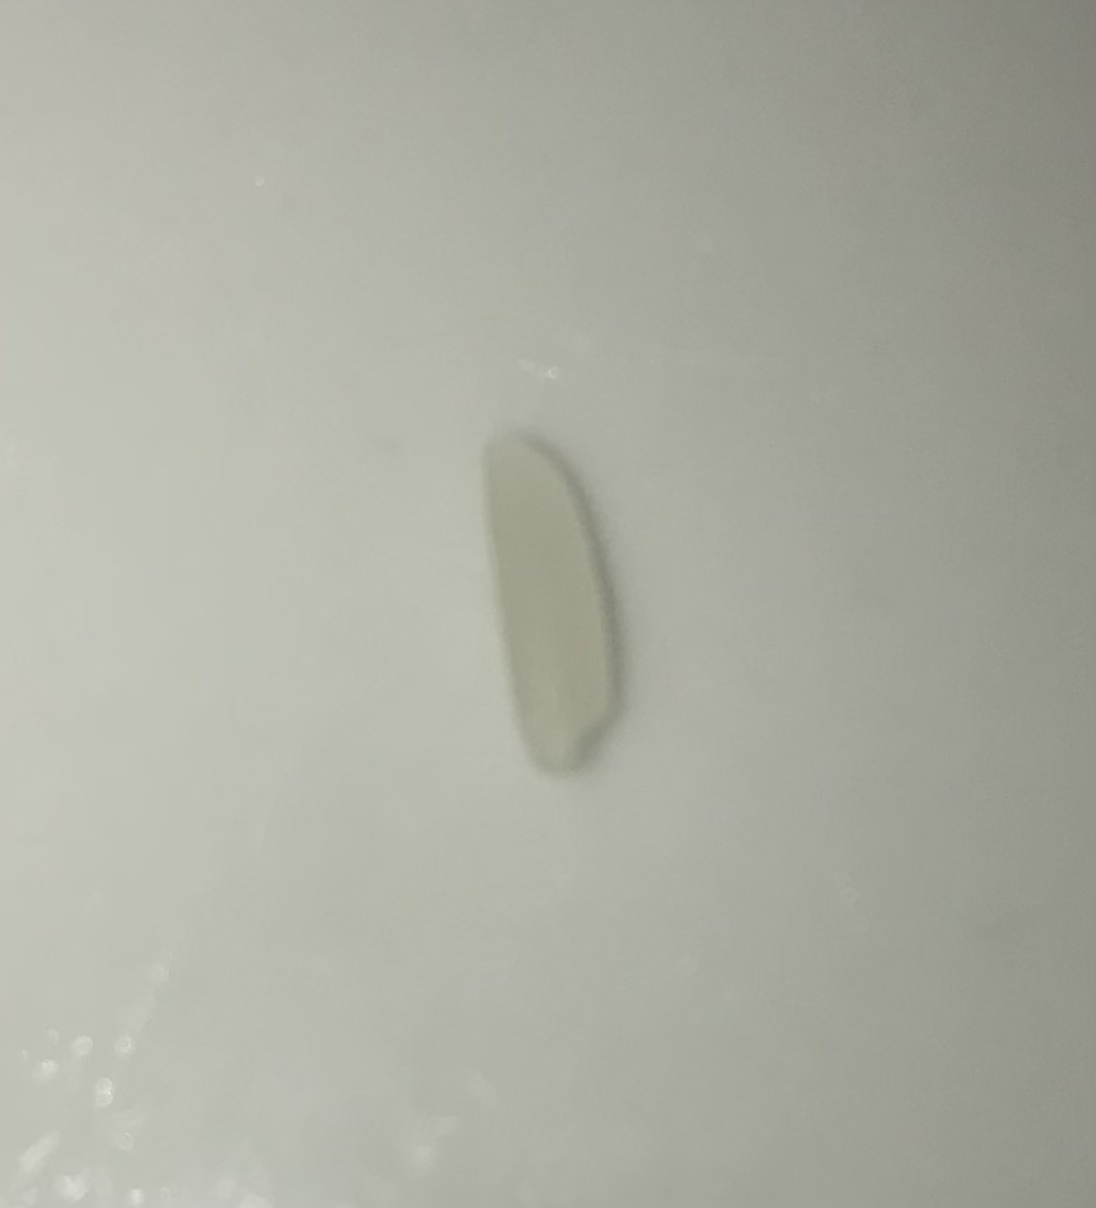Gao Thom Go Cong: (459, 392, 665, 798)
